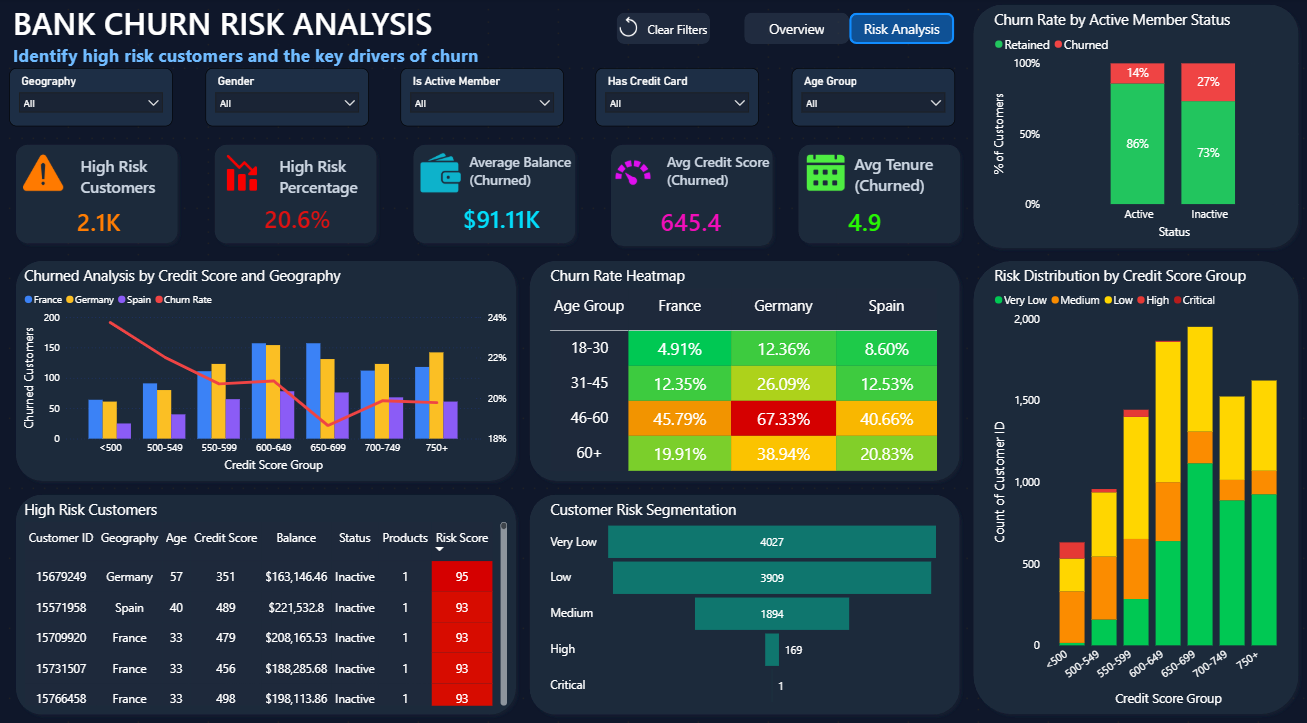

This screenshot's page, from the dashboard's own definition file:
{"tool":"powerbi","page":{"name":"Customer Risk Analysis","canvas":[1800,1000],"ordinal":1},"visuals":[{"type":"textbox","box":[16,0,784,112],"z":0},{"type":"actionButton","box":[1168,16,144,48],"z":1000},{"type":"slicer","fields":{"Values":["Bank_Churn.Age Group"]},"box":[1088,96,224,80],"z":2000},{"type":"slicer","fields":{"Values":["Bank_Churn.Gender"]},"box":[284,96,224,80],"z":3000},{"type":"slicer","fields":{"Values":["Bank_Churn.HasCrCard"]},"box":[820,96,224,80],"z":4000},{"type":"slicer","fields":{"Values":["Bank_Churn.IsActiveMember"]},"box":[552,96,224,80],"z":5000},{"type":"group","id":"g1","title":"Group 3","box":[288,192,240,192],"z":6000},{"type":"shape","box":[16,352,704,320],"z":7000,"group":"g7"},{"type":"shape","box":[1328,352,464,640],"z":7000,"group":"g9"},{"type":"shape","box":[288,192,240,153.6],"z":8000,"group":"g1"},{"type":"shape","box":[16,672,704,320],"z":8000,"group":"g11"},{"type":"shape","box":[16,192,240,153.6],"z":9000,"group":"g5"},{"type":"shape","box":[560,192,240,153.6],"z":9000,"group":"g2"},{"type":"shape","box":[720,352,608,320],"z":9000,"group":"g13"},{"type":"group","id":"g2","title":"Group 4","box":[560,192,240,192],"z":10000},{"type":"shape","box":[832,192,240,157.1],"z":10000,"group":"g3"},{"type":"shape","box":[720,672,608,320],"z":10000,"group":"g8"},{"type":"group","id":"g3","title":"Group 5","box":[832,192,240,192],"z":11000},{"type":"shape","box":[1088,192,240,153.6],"z":11000,"group":"g4"},{"type":"cardVisual","fields":{"Data":["CountNonNull(bank_churn.Risk Level)"]},"box":[80,224,176,160],"z":11000,"group":"g5"},{"type":"group","id":"g4","title":"Group 6","box":[1088,192,240,192],"z":12000},{"type":"image","box":[306.5,211.2,55.4,57.6],"z":12000,"group":"g1"},{"type":"slicer","fields":{"Values":["Bank_Churn.Geography"]},"box":[16,96,224,80],"z":13000},{"type":"image","box":[848,208,48,64],"z":13000,"group":"g3"},{"type":"textbox","box":[108.3,211.2,147.7,76.8],"z":13000,"group":"g5"},{"type":"group","id":"g5","title":"Group 11","box":[16,192,240,192],"z":14000},{"type":"image","box":[1106.5,211.2,55.4,57.6],"z":14000,"group":"g4"},{"type":"actionButton","box":[848,16,128,48],"z":15000},{"type":"image","box":[578.5,211.2,55.4,57.6],"z":15000,"group":"g2"},{"type":"lineClusteredColumnComboChart","box":[48,368,224,160],"z":15005,"group":"g6"},{"type":"image","box":[848,16,32,48],"z":16000},{"type":"textbox","box":[1168,208,160,80],"z":16000,"group":"g4"},{"type":"actionButton","box":[1024,16,144,48],"z":17000},{"type":"textbox","box":[640,208,160,80],"z":17000,"group":"g2"},{"type":"textbox","box":[380.3,211.2,147.7,76.8],"z":18000,"group":"g1"},{"type":"group","id":"g6","title":"Group 10","box":[16,352,704,320],"z":18000,"group":"g12"},{"type":"group","id":"g7","title":"Group 7","box":[16,352,704,320],"z":18000,"group":"g6"},{"type":"textbox","box":[912,208,160,80],"z":19000,"group":"g3"},{"type":"lineClusteredColumnComboChart","title":"Churned Analysis by Credit Score and Geography","fields":{"Category":["bank_churn.Credit Score Group"],"Y":["bank_churn.Churned Customers"],"Series":["bank_churn.Geography"],"Y2":["bank_churn.Churn Rate"]},"box":[32,368,672,288],"z":19000,"group":"g12"},{"type":"funnel","title":"Customer Risk Segmentation","fields":{"Category":["bank_churn.Risk Level"],"Y":["CountNonNull(bank_churn.Customer ID)"]},"box":[752,688,544,288],"z":19000,"group":"g8"},{"type":"shape","box":[1328,0,464,352],"z":20000,"group":"g10"},{"type":"cardVisual","fields":{"Data":["Sum(bank_churn.High Risk Percentage)"]},"box":[336,216,192,168],"z":20000,"group":"g1"},{"type":"cardVisual","fields":{"Data":["Bank_Churn.Average Balance"]},"box":[608,216,192,168],"z":21000,"group":"g2"},{"type":"group","id":"g8","title":"Group 1","box":[720,672,608,320],"z":21000},{"type":"cardVisual","fields":{"Data":["Avg(Bank_Churn.CreditScore)"]},"box":[880,224,192,160],"z":22000,"group":"g3"},{"type":"pivotTable","title":"Churn Rate Heatmap","fields":{"Rows":["bank_churn.Age Group"],"Columns":["bank_churn.Geography"],"Values":["bank_churn.Churn Rate"]},"box":[752,368,544,288],"z":22000,"group":"g13"},{"type":"cardVisual","fields":{"Data":["Avg(bank_churn.Tenure (yrs))"]},"box":[1136,224,192,160],"z":23000,"group":"g4"},{"type":"tableEx","title":"High Risk Customers","fields":{"Values":["bank_churn.Customer ID","bank_churn.Geography","bank_churn.Age","bank_churn.Credit Score","bank_churn.Balance","bank_churn.Active Status","bank_churn.Products","bank_churn.Risk Score"]},"box":[32,688,672,288],"z":23000,"group":"g11"},{"type":"hundredPercentStackedColumnChart","title":"Churn Rate by Active Member Status","fields":{"Y":["CountNonNull(bank_churn.Customer ID)"],"Category":["bank_churn.Status"],"Series":["bank_churn.Exit Status"]},"box":[1360,16,432,320],"z":24000,"group":"g10"},{"type":"image","box":[34.5,211.2,55.4,57.6],"z":24000,"group":"g5"},{"type":"columnChart","title":"Risk Distribution by Credit Score Group","fields":{"Y":["CountNonNull(bank_churn.Customer ID)"],"Category":["bank_churn.Credit Score Group"],"Series":["bank_churn.Risk Level"]},"box":[1360,368,416,608],"z":25000,"group":"g9"},{"type":"group","id":"g9","title":"Group 2","box":[1328,352,464,640],"z":25001},{"type":"group","id":"g10","title":"Group 8","box":[1328,0,464,352],"z":25002},{"type":"group","id":"g11","title":"Group 9","box":[16,672,704,320],"z":25003},{"type":"group","id":"g12","title":"Group 12","box":[16,352,704,320],"z":25004},{"type":"group","id":"g13","title":"Group 13","box":[720,352,608,320],"z":25005}]}

Visuals, with their boxes in screenshot pixels (x1, y1, x2, y2), scaled from the page's 1800x1000 canvas onto the 1307x723 screenshot:
textbox: <region>12, 0, 581, 81</region>
actionButton: <region>848, 12, 953, 46</region>
slicer - Bank_Churn.Age Group: <region>790, 69, 953, 127</region>
slicer - Bank_Churn.Gender: <region>206, 69, 369, 127</region>
slicer - Bank_Churn.HasCrCard: <region>595, 69, 758, 127</region>
slicer - Bank_Churn.IsActiveMember: <region>401, 69, 563, 127</region>
"Group 3" group: <region>209, 139, 383, 278</region>
shape: <region>12, 254, 523, 486</region>
shape: <region>964, 254, 1301, 717</region>
shape: <region>209, 139, 383, 250</region>
shape: <region>12, 486, 523, 717</region>
shape: <region>12, 139, 186, 250</region>
shape: <region>407, 139, 581, 250</region>
shape: <region>523, 254, 964, 486</region>
"Group 4" group: <region>407, 139, 581, 278</region>
shape: <region>604, 139, 778, 252</region>
shape: <region>523, 486, 964, 717</region>
"Group 5" group: <region>604, 139, 778, 278</region>
shape: <region>790, 139, 964, 250</region>
cardVisual - CountNonNull(bank_churn.Risk Level): <region>58, 162, 186, 278</region>
"Group 6" group: <region>790, 139, 964, 278</region>
image: <region>223, 153, 263, 194</region>
slicer - Bank_Churn.Geography: <region>12, 69, 174, 127</region>
image: <region>616, 150, 651, 197</region>
textbox: <region>79, 153, 186, 208</region>
"Group 11" group: <region>12, 139, 186, 278</region>
image: <region>803, 153, 844, 194</region>
actionButton: <region>616, 12, 709, 46</region>
image: <region>420, 153, 460, 194</region>
lineClusteredColumnComboChart: <region>35, 266, 198, 382</region>
image: <region>616, 12, 639, 46</region>
textbox: <region>848, 150, 964, 208</region>
actionButton: <region>744, 12, 848, 46</region>
textbox: <region>465, 150, 581, 208</region>
textbox: <region>276, 153, 383, 208</region>
"Group 10" group: <region>12, 254, 523, 486</region>
"Group 7" group: <region>12, 254, 523, 486</region>
textbox: <region>662, 150, 778, 208</region>
"Churned Analysis by Credit Score and Geography" lineClusteredColumnComboChart: <region>23, 266, 511, 474</region>
"Customer Risk Segmentation" funnel: <region>546, 497, 941, 706</region>
shape: <region>964, 0, 1301, 254</region>
cardVisual - Sum(bank_churn.High Risk Percentage): <region>244, 156, 383, 278</region>
cardVisual - Bank_Churn.Average Balance: <region>441, 156, 581, 278</region>
"Group 1" group: <region>523, 486, 964, 717</region>
cardVisual - Avg(Bank_Churn.CreditScore): <region>639, 162, 778, 278</region>
"Churn Rate Heatmap" pivotTable: <region>546, 266, 941, 474</region>
cardVisual - Avg(bank_churn.Tenure (yrs)): <region>825, 162, 964, 278</region>
"High Risk Customers" tableEx: <region>23, 497, 511, 706</region>
"Churn Rate by Active Member Status" hundredPercentStackedColumnChart: <region>988, 12, 1301, 243</region>
image: <region>25, 153, 65, 194</region>
"Risk Distribution by Credit Score Group" columnChart: <region>988, 266, 1290, 706</region>
"Group 2" group: <region>964, 254, 1301, 717</region>
"Group 8" group: <region>964, 0, 1301, 254</region>
"Group 9" group: <region>12, 486, 523, 717</region>
"Group 12" group: <region>12, 254, 523, 486</region>
"Group 13" group: <region>523, 254, 964, 486</region>
